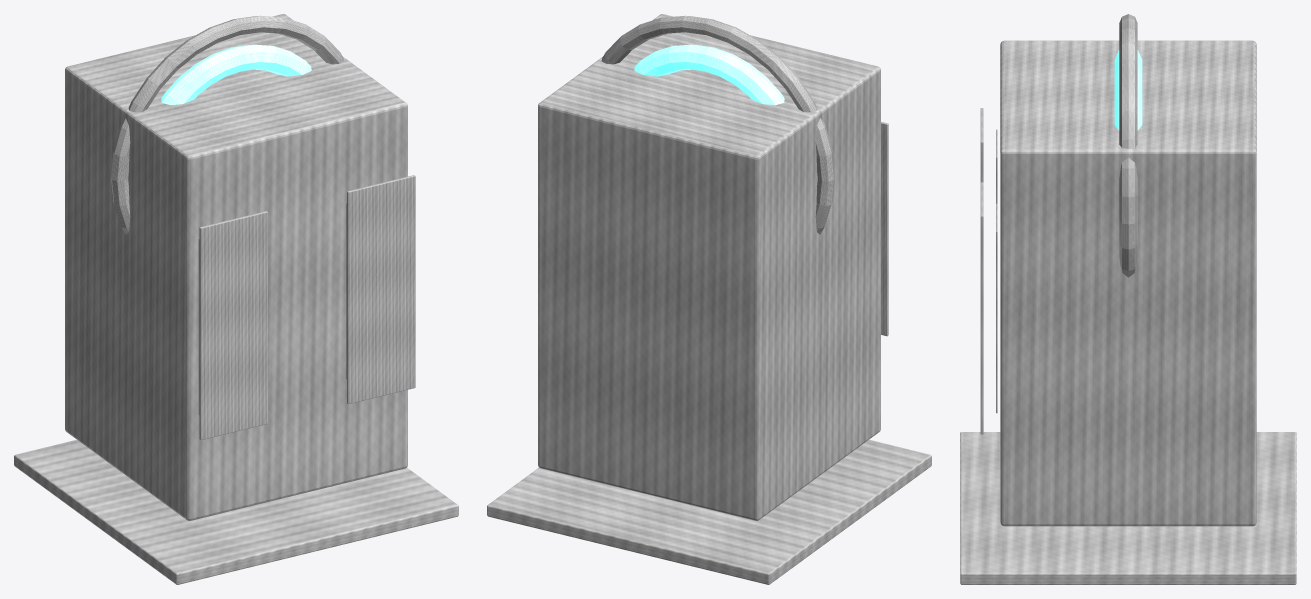
File: portal_variant_b.glb
3 renders of one model, left to right at view 1: azimuth 30°, elevation 25°; view 2: azimuth 150°, elevation 25°; view 3: azimuth 270°, elevation 25°, orthographic. The views are drawn at different scales.
Parts seen in each view (by area): view 1: Main structural housing.001, Foundation.001, Protective frame.002, Protective frame.003, Outer portal frame.002, Portal aperture.002; view 2: Main structural housing.001, Foundation.001, Outer portal frame.002, Portal aperture.002, Protective frame.002; view 3: Main structural housing.001, Foundation.001, Outer portal frame.002, Protective frame.003, Portal aperture.002.
Part boxes in pixels (box(x1,y1,x2,y2)): Main structural housing.001: box(65, 14, 407, 520); Foundation.001: box(14, 440, 458, 584); Protective frame.002: box(199, 211, 267, 439); Protective frame.003: box(347, 175, 415, 404); Outer portal frame.002: box(111, 15, 344, 234); Portal aperture.002: box(161, 44, 311, 105); Main structural housing.001: box(538, 14, 880, 520); Foundation.001: box(487, 440, 931, 584); Outer portal frame.002: box(601, 15, 834, 234); Portal aperture.002: box(634, 44, 784, 105); Protective frame.002: box(881, 121, 888, 336); Main structural housing.001: box(1000, 40, 1256, 526); Foundation.001: box(960, 432, 1296, 584); Outer portal frame.002: box(1119, 14, 1137, 277); Protective frame.003: box(980, 182, 983, 434); Portal aperture.002: box(1114, 50, 1142, 130).
Size of what is drawn, in the model's own units: 11.04 by 17.62 by 11.04.
6 materials, 6 textured.
